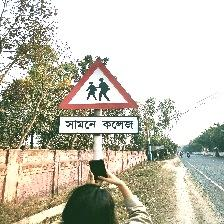College-in-front: (44, 56, 154, 146)
